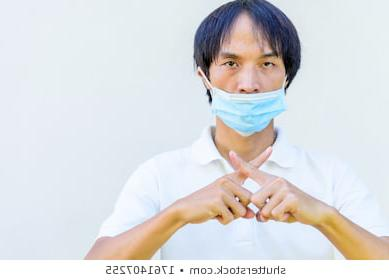mask_weared_incorrect: (208, 46, 285, 138)
